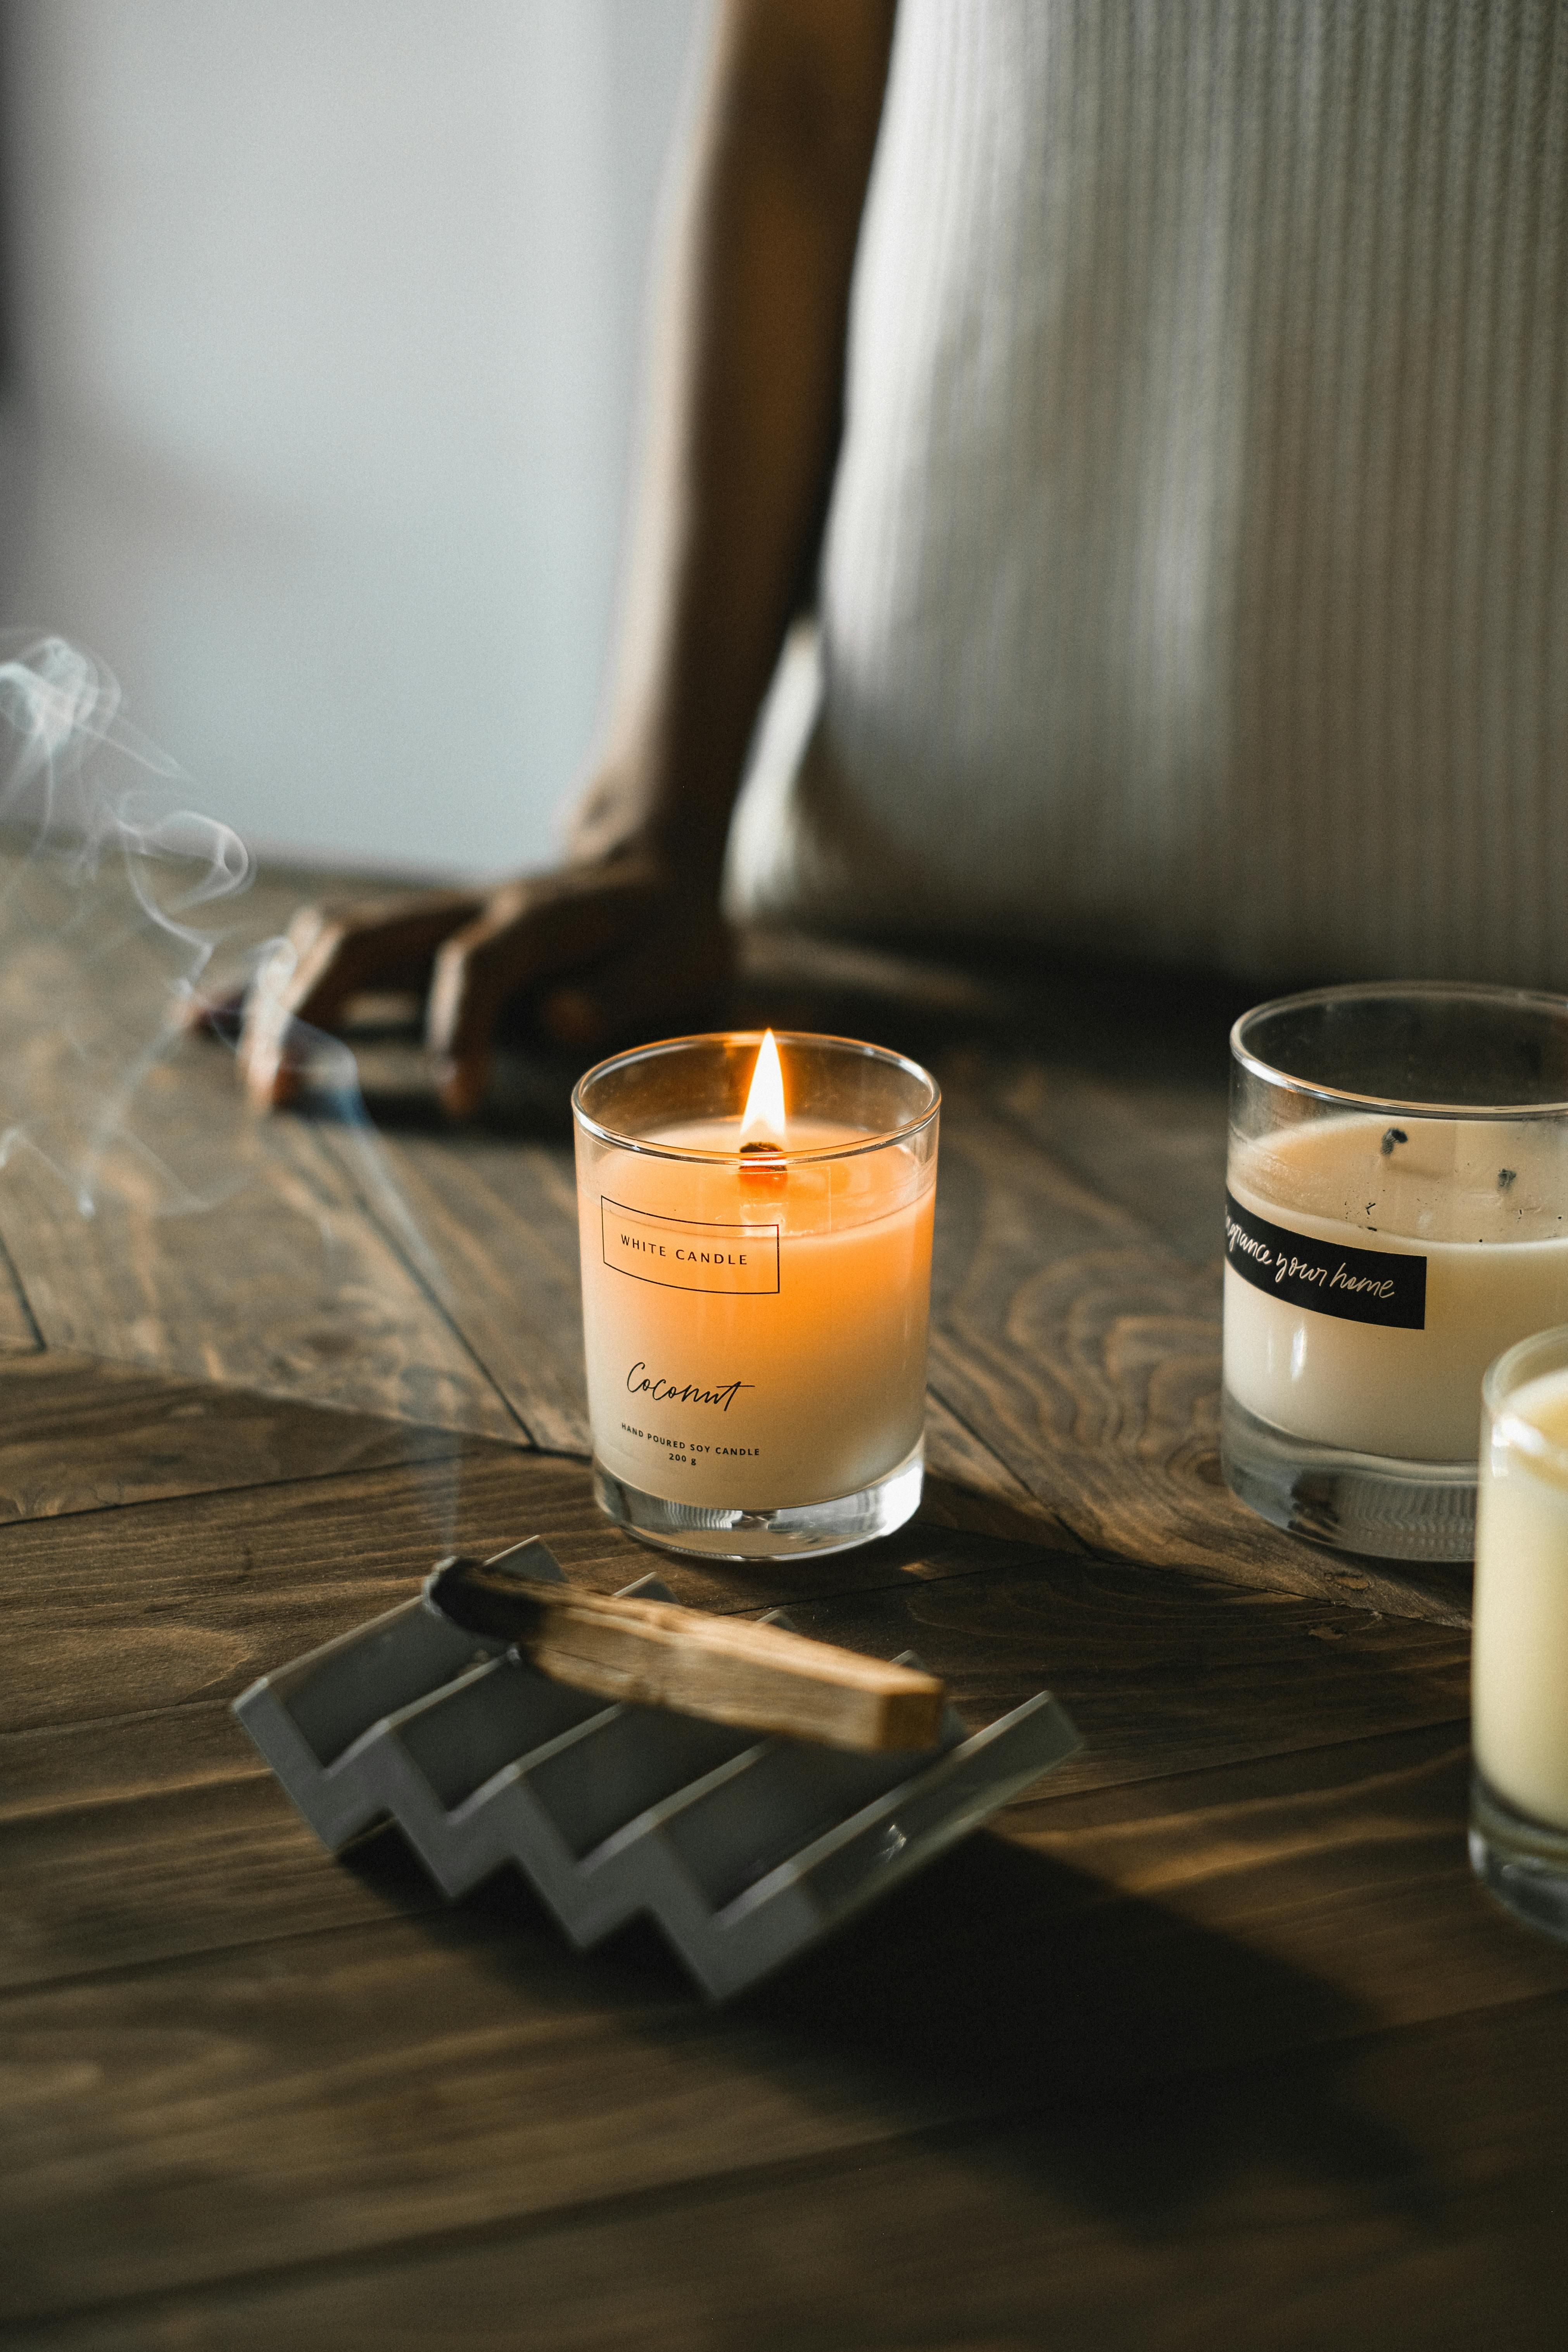Fire: (726, 1039, 814, 1200)
